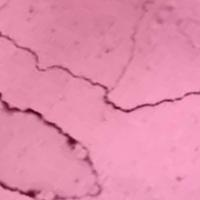crack: (0, 31, 199, 199)
